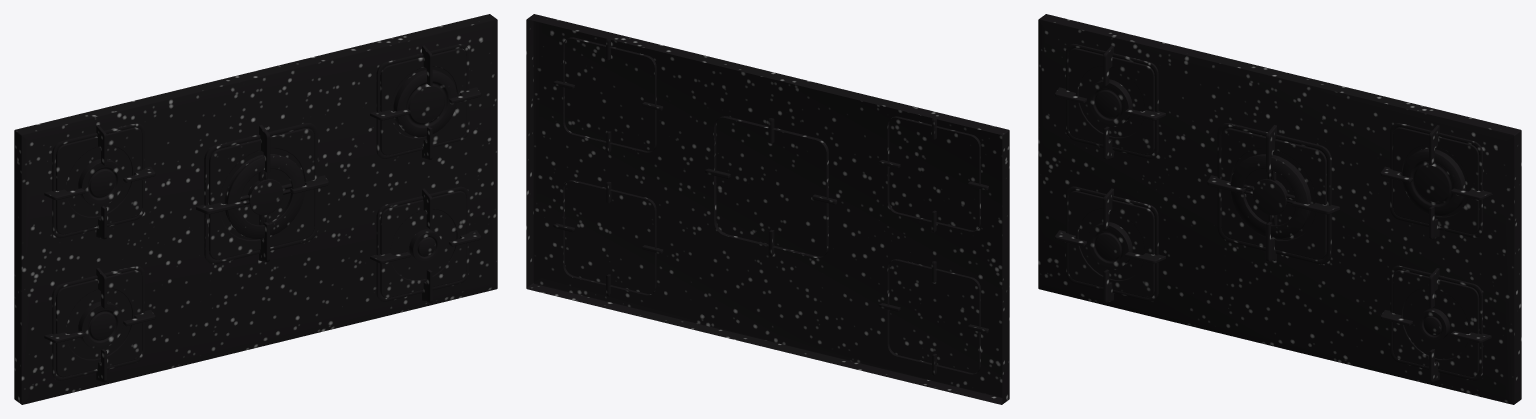
3 renders of one model, left to right at view 1: azimuth 30°, elevation 25°; view 2: azimuth 150°, elevation 25°; view 3: azimuth 330°, elevation 25°, orthographic.
Bounding box in the file's own units: 1 × 0.5416 × 0.0592.
